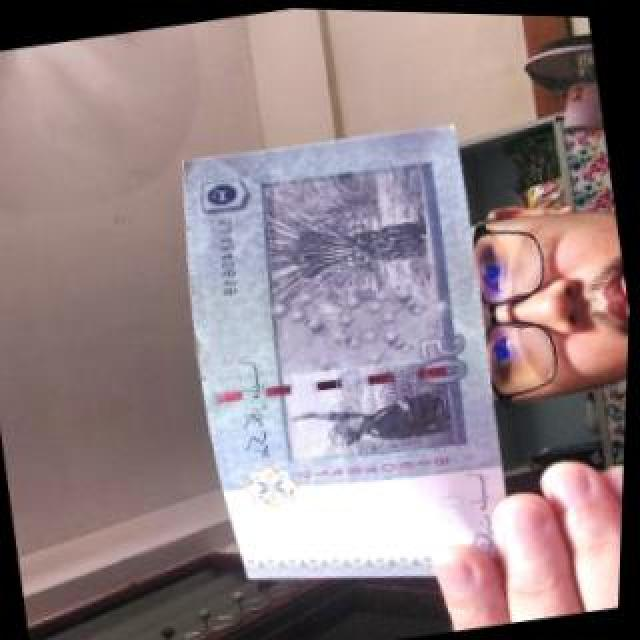50 Ringgit: (156, 102, 547, 617)
